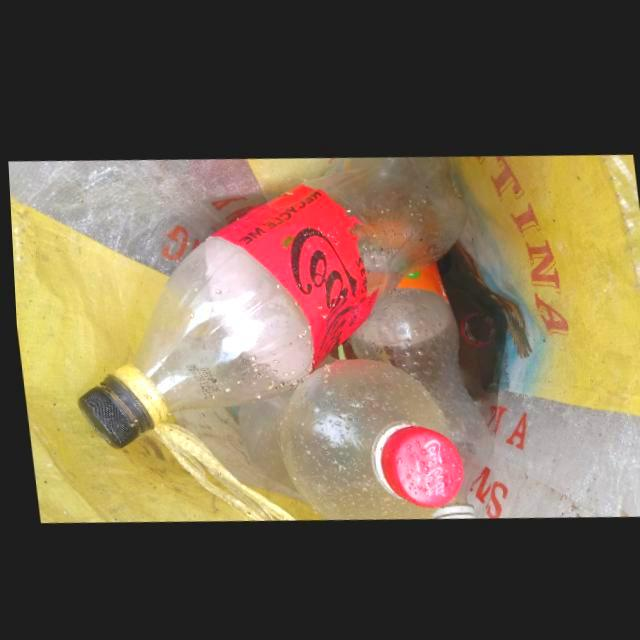plastic_bottle: (73, 151, 465, 447), (233, 354, 459, 517), (345, 257, 488, 514)
